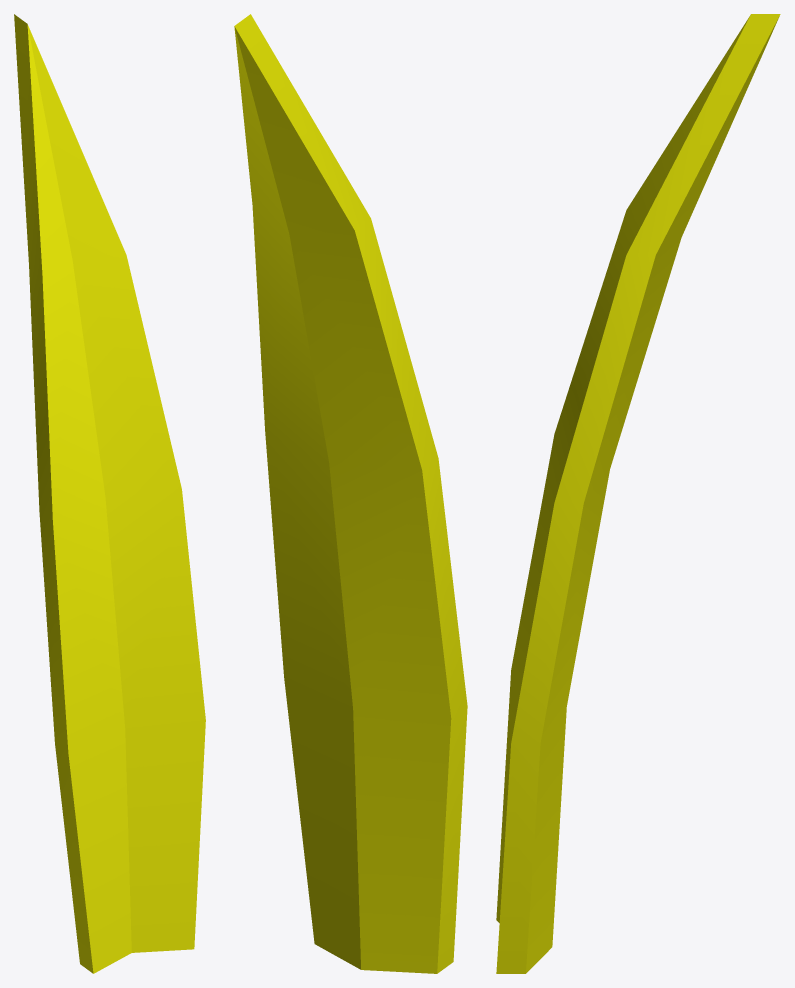
The model's file is kaykit-grass-2-a-color-1.glb.
The picture shows the model from 3 angles, left to right: view 1: azimuth 30°, elevation 25°; view 2: azimuth 150°, elevation 25°; view 3: azimuth 270°, elevation 25°; orthographic projection. The views are drawn at different scales.
Parts seen in each view (by area): view 1: Grass_2_A_Color1; view 2: Grass_2_A_Color1; view 3: Grass_2_A_Color1.
Part boxes in pixels (bbox=[...]): Grass_2_A_Color1: bbox=[14, 14, 205, 973]; Grass_2_A_Color1: bbox=[234, 14, 467, 973]; Grass_2_A_Color1: bbox=[496, 14, 780, 973].
Size of the model in its own units: 0.155 by 0.9188 by 0.2536.
